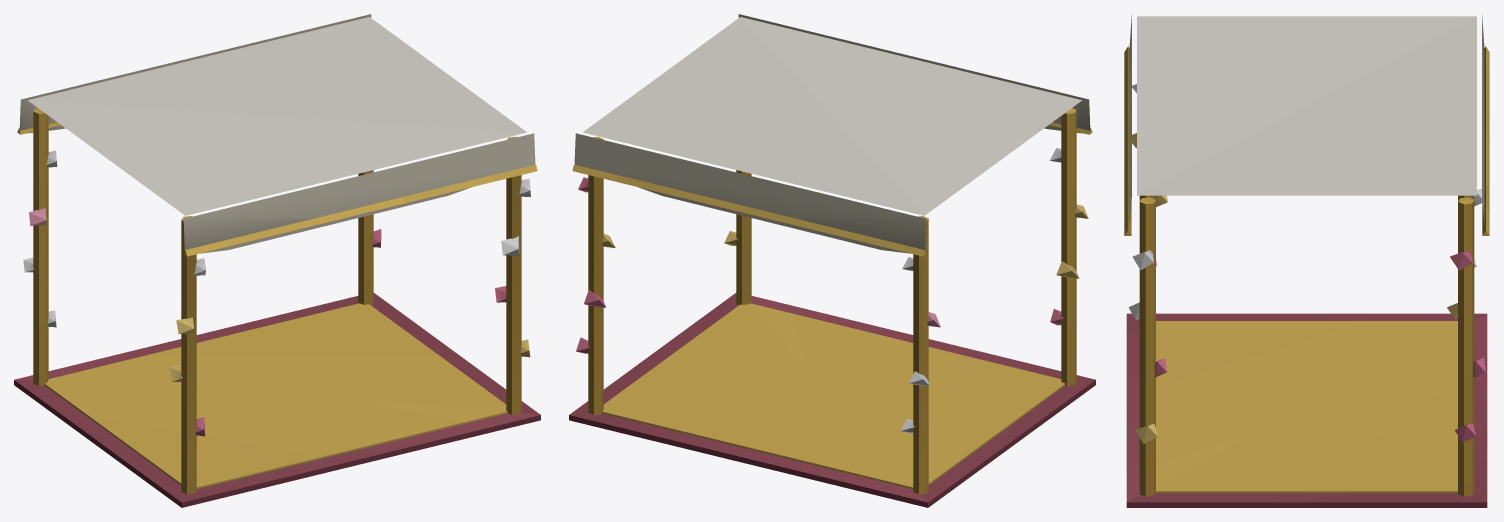
Rendered from weddingtent.glb.
3 views of the same model, side by side, from view 1: azimuth 30°, elevation 25°; view 2: azimuth 150°, elevation 25°; view 3: azimuth 270°, elevation 25° (orthographic). The views are drawn at different scales.
Parts seen in each view (by area): view 1: base, cloth_m; view 2: base, cloth_m; view 3: base, cloth_m.
Part boxes in pixels (x1,y1,x2,y2): base: (14,108,540,507); cloth_m: (17,14,537,256); base: (569,108,1095,507); cloth_m: (572,14,1092,256); base: (1126,84,1487,507); cloth_m: (1124,14,1489,235).
Bounding box in the file's own units: 0.84 × 0.64 × 0.6879.
